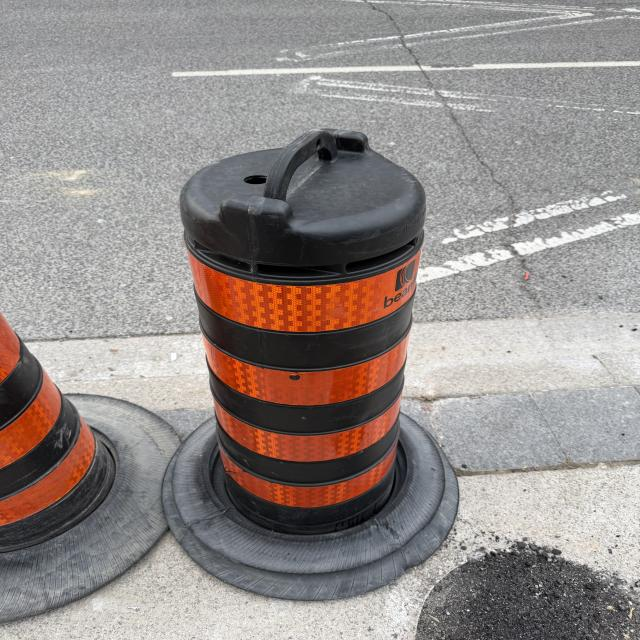Teraffic Barrel: (164, 130, 457, 599), (0, 314, 178, 622)
